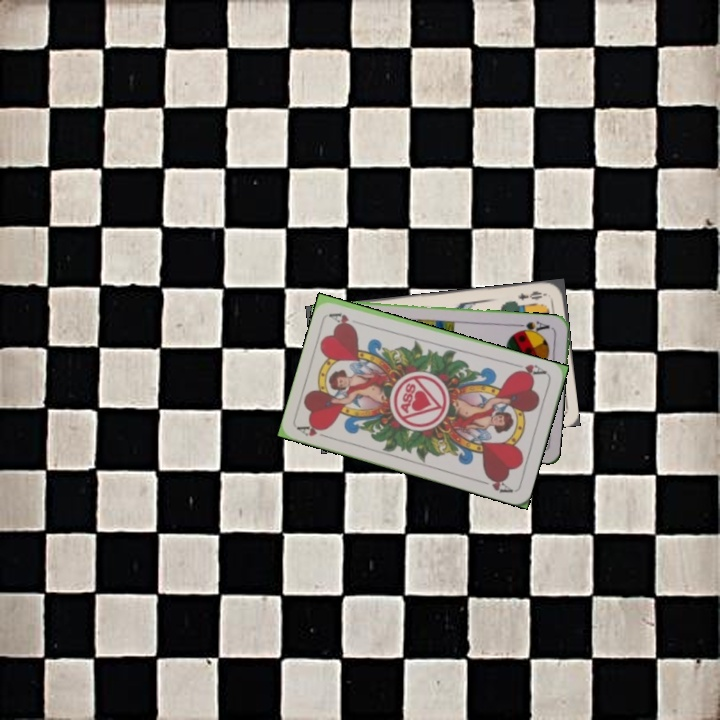EO: (513, 287, 549, 303)
HA: (294, 420, 334, 442), (510, 359, 549, 380)
SA: (513, 317, 552, 337)
